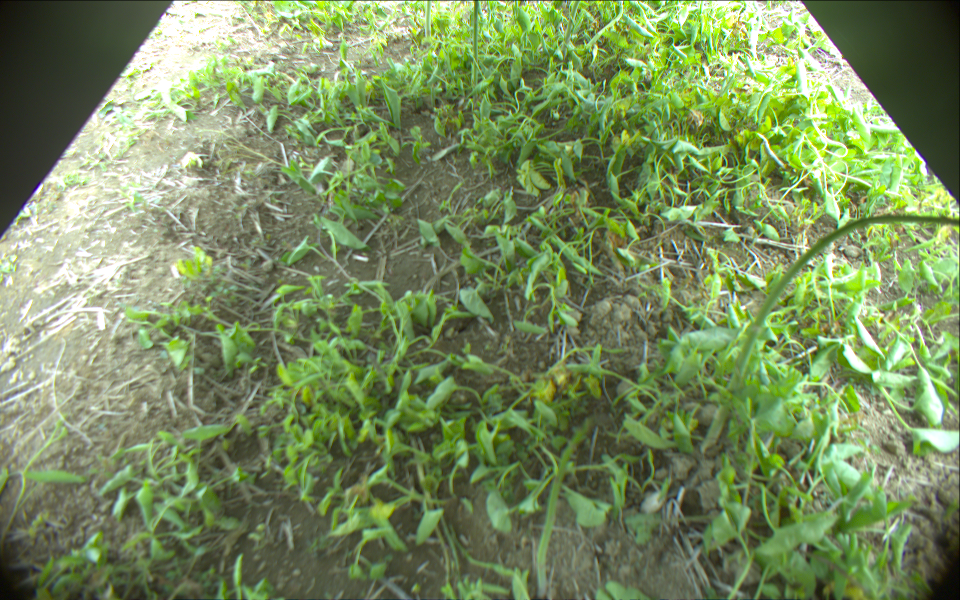aspa: (728, 211, 960, 395), (534, 418, 597, 600), (583, 1, 624, 50), (469, 1, 483, 96), (423, 1, 433, 39)
